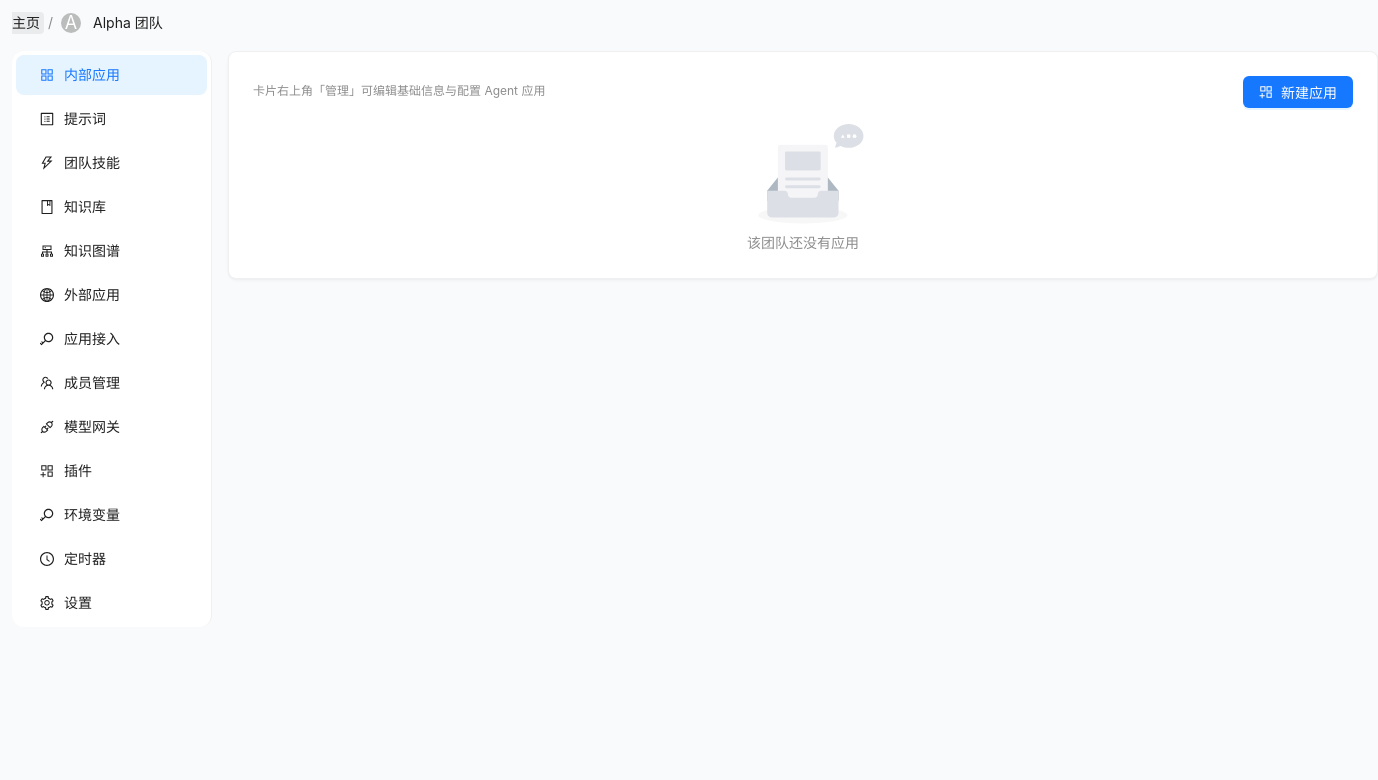
Scenario: TeamManage › 环境变量菜单嵌入变量组件并按团队加载
The width and height of the screenshot is (1378, 780).
Expected: the text "Alpha 团队" is shown, x1=93 y1=12 x2=163 y2=34
Click the menu item "环境变量" at [80, 514], box x1=40 y1=506 x2=120 y2=523
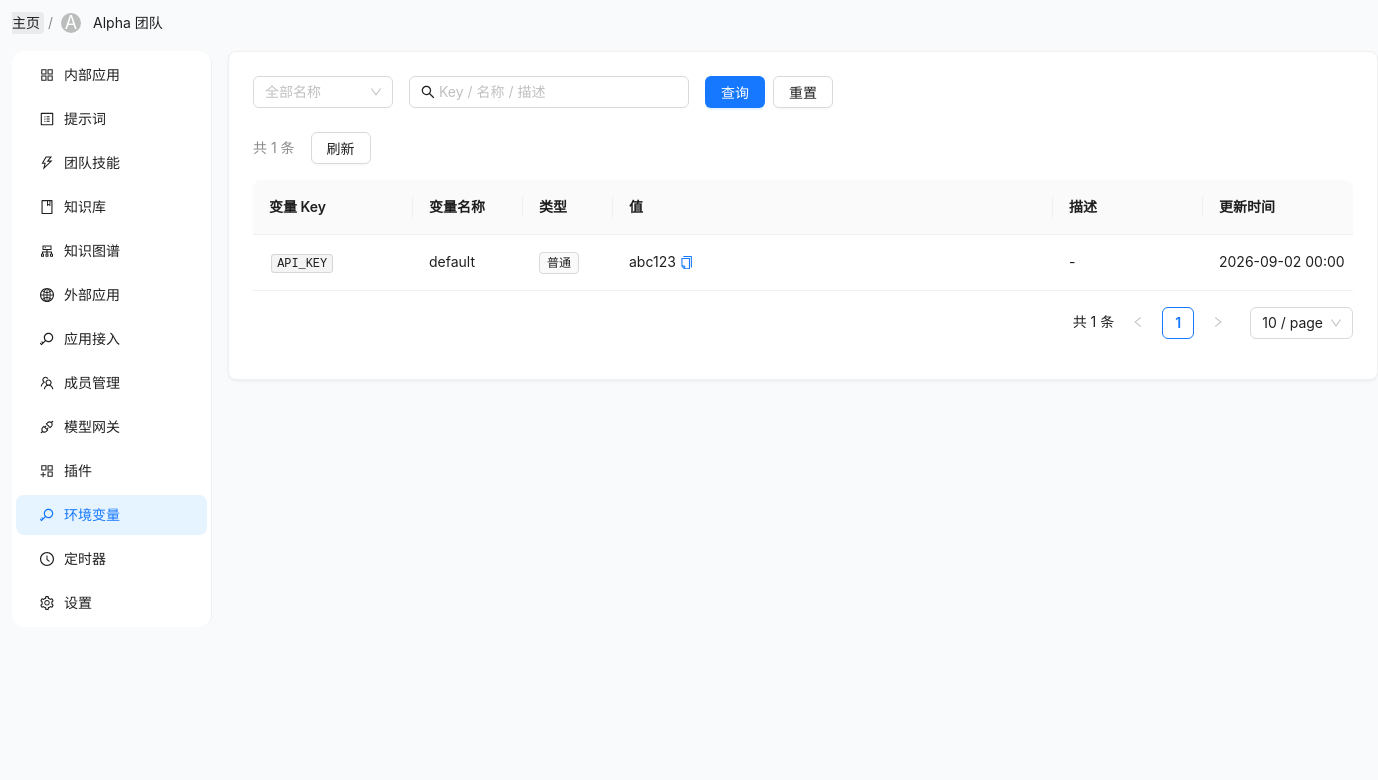
Now the text "API_KEY" is shown, box x1=271 y1=254 x2=333 y2=273
